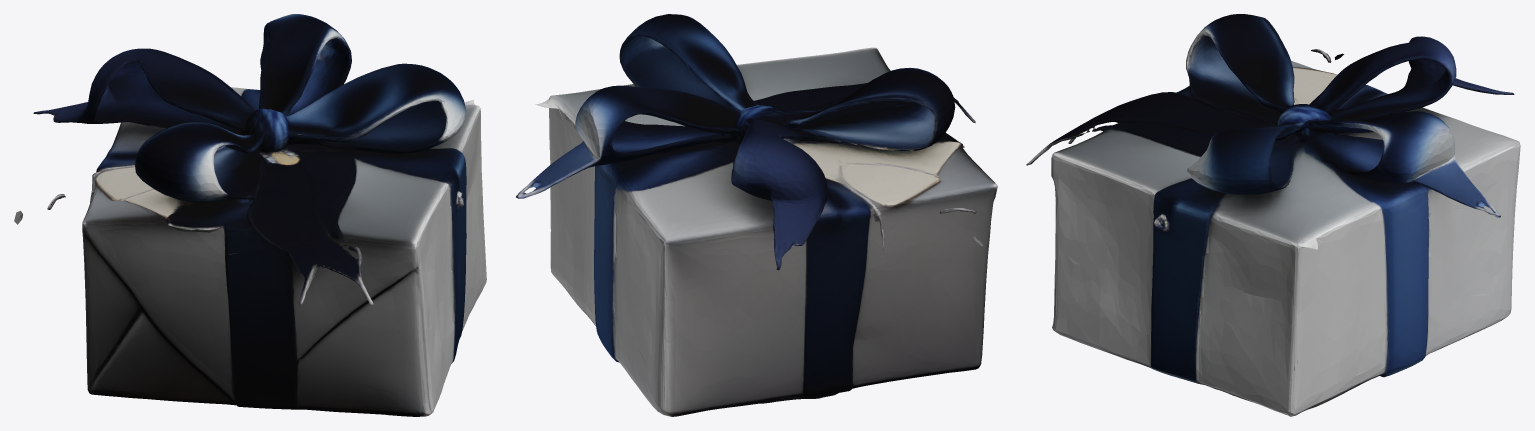
The model's file is gift box.glb.
The picture shows the model from 3 angles, left to right: view 1: azimuth 30°, elevation 25°; view 2: azimuth 150°, elevation 25°; view 3: azimuth 270°, elevation 25°; orthographic projection. The views are drawn at different scales.
Visible parts, largest first — view 1: world; view 2: world; view 3: world.
Part boxes in pixels (x1,y1,x2,y2): world: (14, 14, 486, 416); world: (515, 14, 997, 416); world: (1026, 14, 1520, 416).
Bounding box in the file's own units: 0.8834 × 0.4954 × 0.8702.
Materials: 1 (1 with a texture image).
